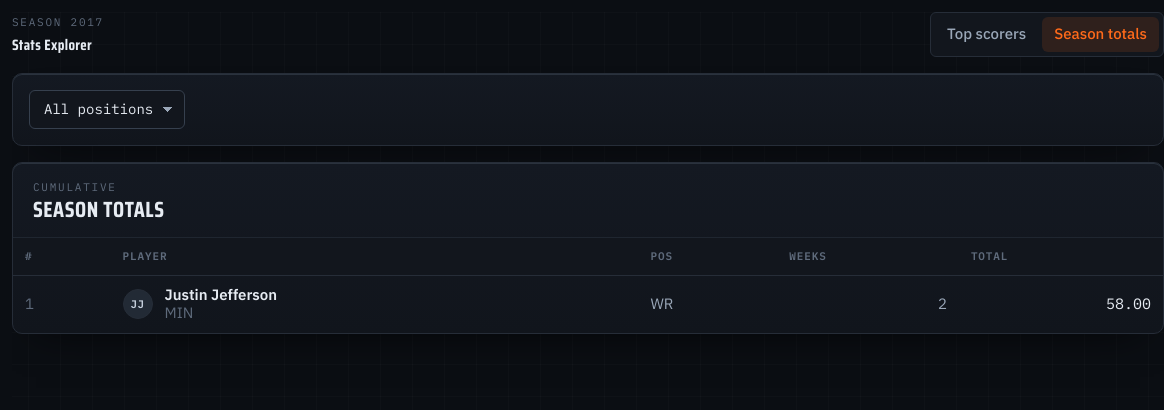
Test: StatsPage › keeps weekly leaders reachable from the tabs
Expected: the text "Justin Jefferson" is shown, [165, 286, 277, 304]
Click the tab "Top scorers". click: [987, 34]
box: [935, 17, 1038, 52]
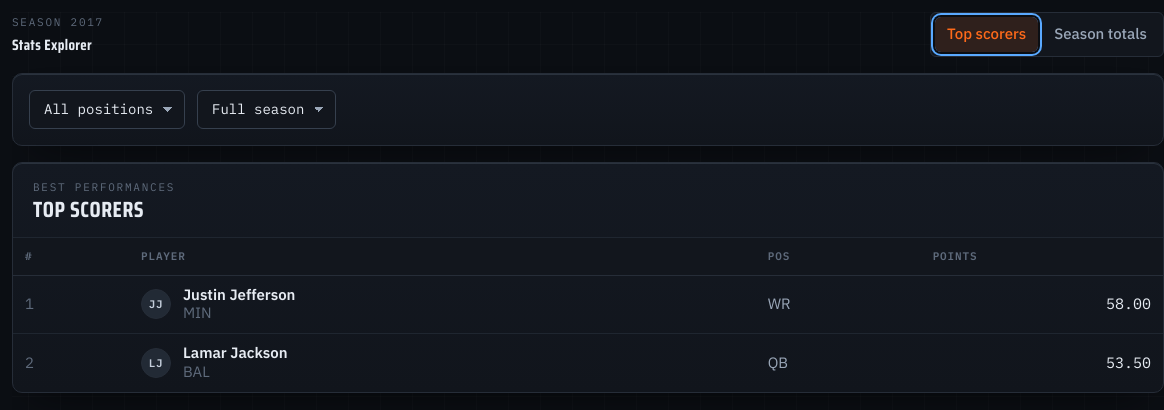
Now the heading "Top Scorers" is shown, box [33, 192, 144, 227]
